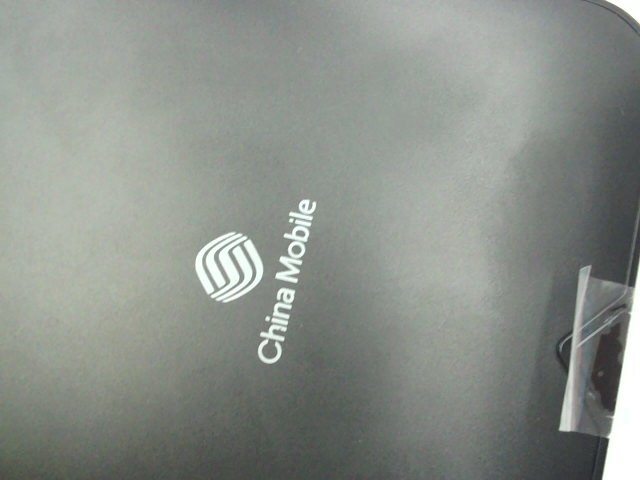ChinaMobile: (182, 182, 333, 369)
